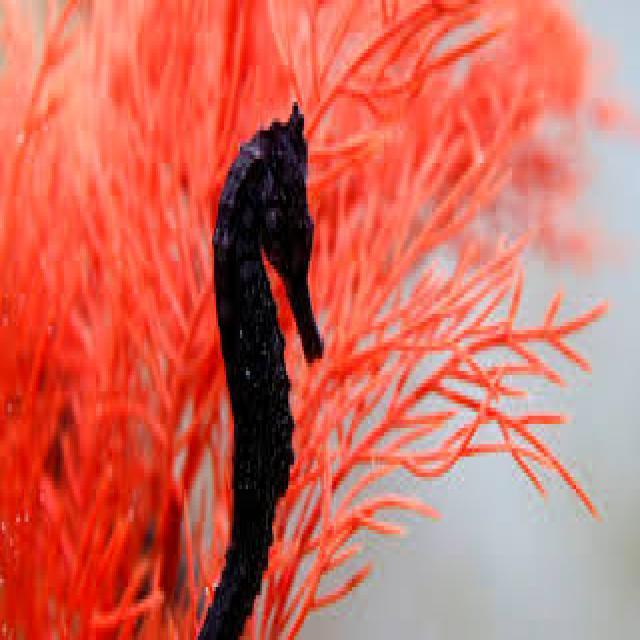SeaHorse: (198, 106, 324, 640)
